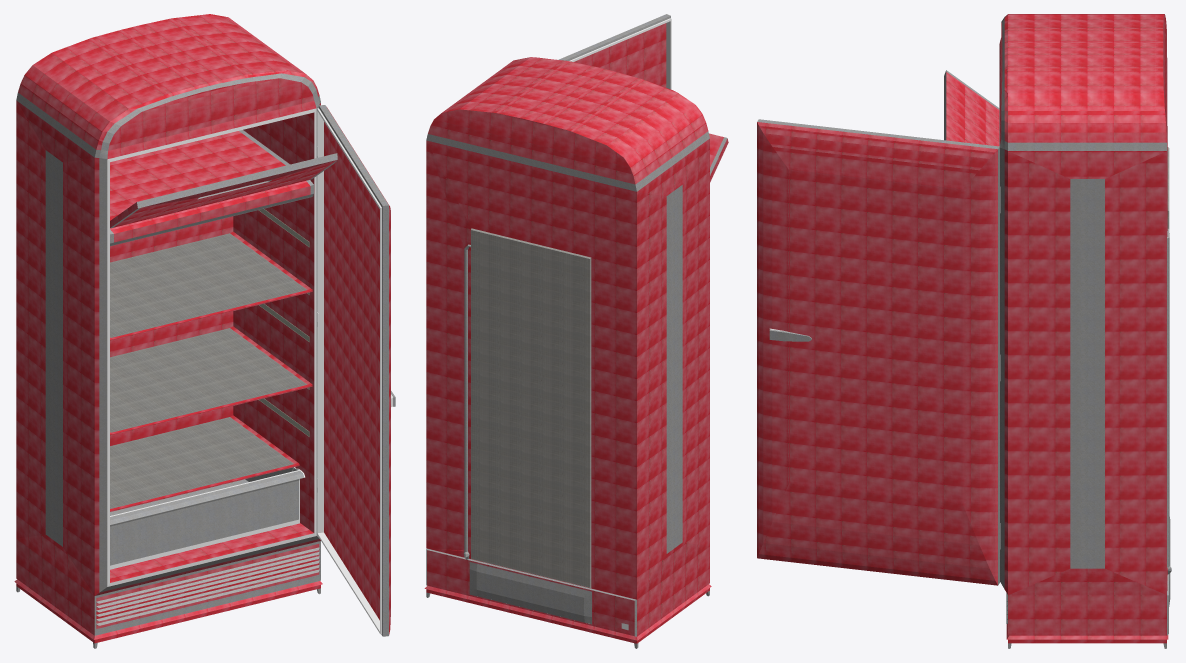
The picture shows the model from 3 angles, left to right: view 1: azimuth 30°, elevation 25°; view 2: azimuth 150°, elevation 25°; view 3: azimuth 270°, elevation 25°; orthographic projection. The views are drawn at different scales.
Parts seen in each view (by area): view 1: 1, 4, 2, 3, Transparent, 5; view 2: 1, 6, 2, Transparent, 7, 3; view 3: 1, 2, 7.
Boxes of the visible parts, x1=… form: 1: x1=14, y1=14, x2=390, y2=643; 4: x1=110, y1=233, x2=306, y2=508; 2: x1=16, y1=73, x2=395, y2=648; 3: x1=17, y1=108, x2=393, y2=648; Transparent: x1=110, y1=467, x2=298, y2=565; 5: x1=258, y1=209, x2=309, y2=436; 1: x1=424, y1=23, x2=728, y2=643; 6: x1=471, y1=228, x2=591, y2=588; 2: x1=426, y1=14, x2=727, y2=648; Transparent: x1=469, y1=562, x2=591, y2=624; 7: x1=463, y1=244, x2=470, y2=559; 3: x1=427, y1=18, x2=708, y2=648; 1: x1=757, y1=14, x2=1168, y2=643; 2: x1=757, y1=17, x2=1168, y2=648; 7: x1=1167, y1=228, x2=1171, y2=574.
Bounding box in the file's own units: 10.12 × 22.72 × 15.66.
Materials: 8 (7 with a texture image).
